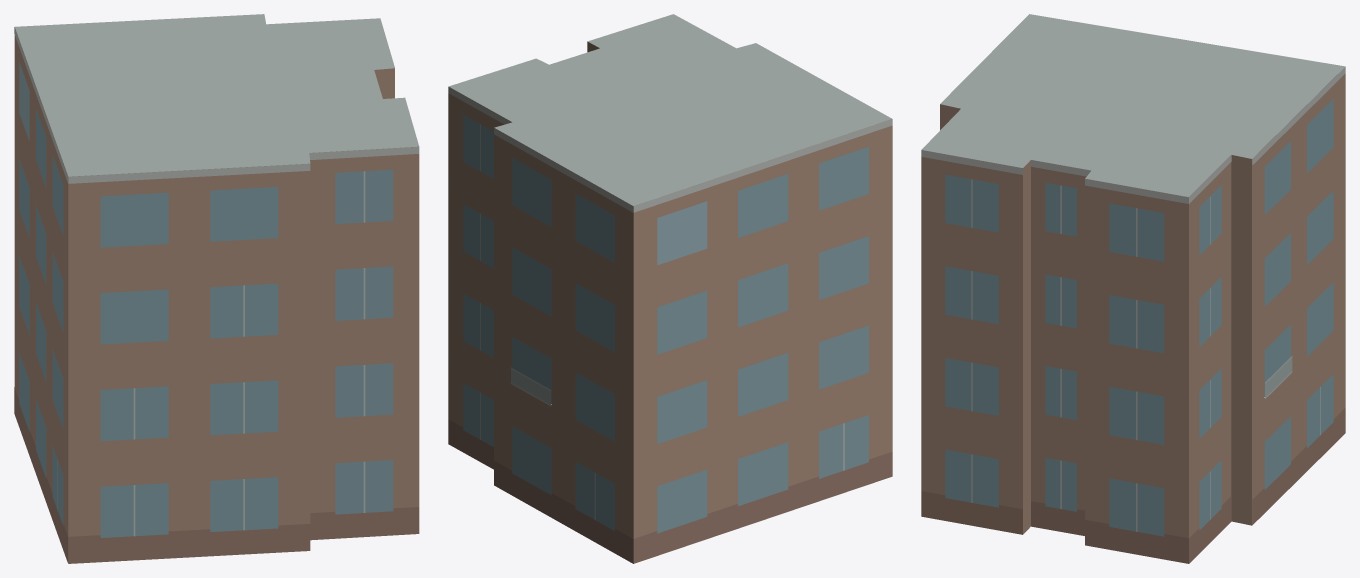
The model's file is survey-upis-32825598.glb.
3 renders of one model, left to right at view 1: azimuth 30°, elevation 25°; view 2: azimuth 150°, elevation 25°; view 3: azimuth 270°, elevation 25°, orthographic. The views are drawn at different scales.
Visible parts, largest first — view 1: survey-upis-32825598.tmp; view 2: survey-upis-32825598.tmp; view 3: survey-upis-32825598.tmp.
Boxes of the visible parts, x1,y1,x2,y2 form: survey-upis-32825598.tmp: (14, 14, 419, 563); survey-upis-32825598.tmp: (448, 14, 892, 563); survey-upis-32825598.tmp: (921, 14, 1345, 563).
Bounding box in the file's own units: 14.05 × 13.1 × 13.75.
